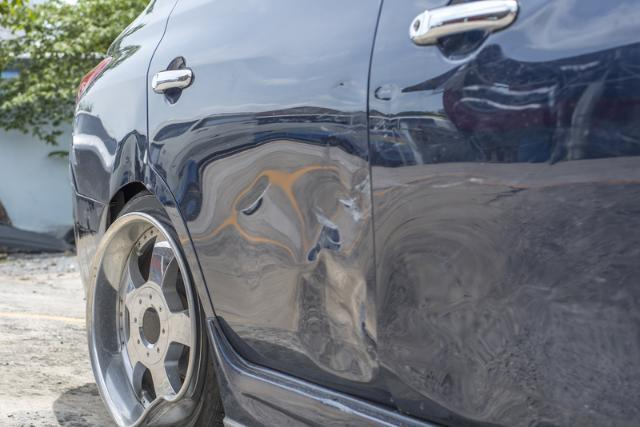Door: (185, 108, 378, 384)
Fender: (70, 107, 165, 202)
